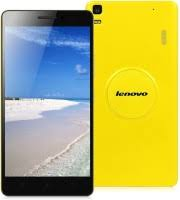lenovo: (1, 8, 94, 199)
